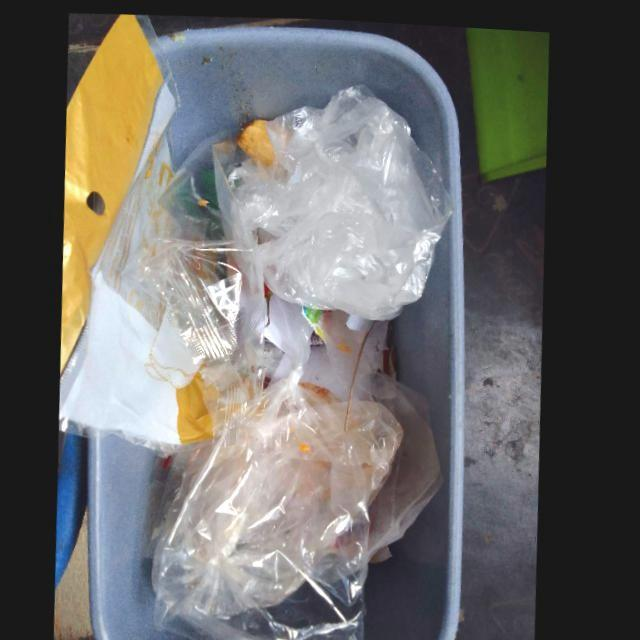plastic_bag: (64, 12, 224, 450), (154, 374, 405, 640), (215, 83, 452, 317), (104, 127, 270, 439)
